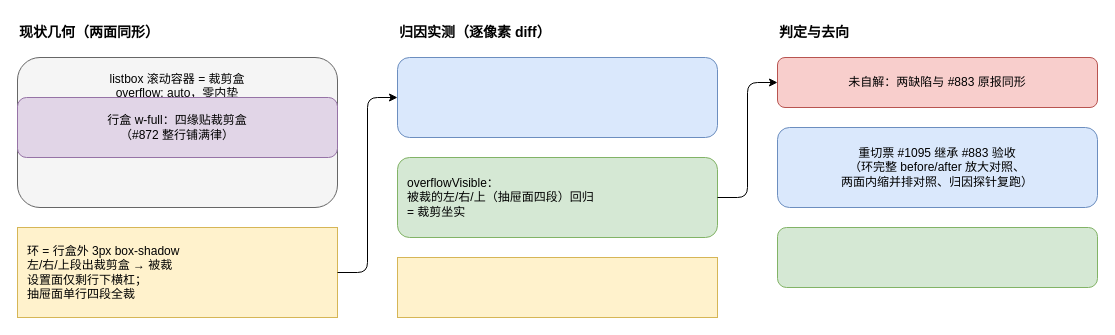
Some shapes in this 1115 by 335 pixel diagram are drawn without their labels. Each missing label, with the centre of its shape:
"#883 关闭（被 #1095 取代） 证据归档 docs/verify/1011" belongs at point 937,257.
"shadowRemoved： 实际画出的墨 = 行内透墨 + 下段（设置面）/ 仅透墨（抽屉面）" belongs at point 557,97.
"行内缩实测：抽屉面 20px vs 设置面 12px" belongs at point 557,287.
